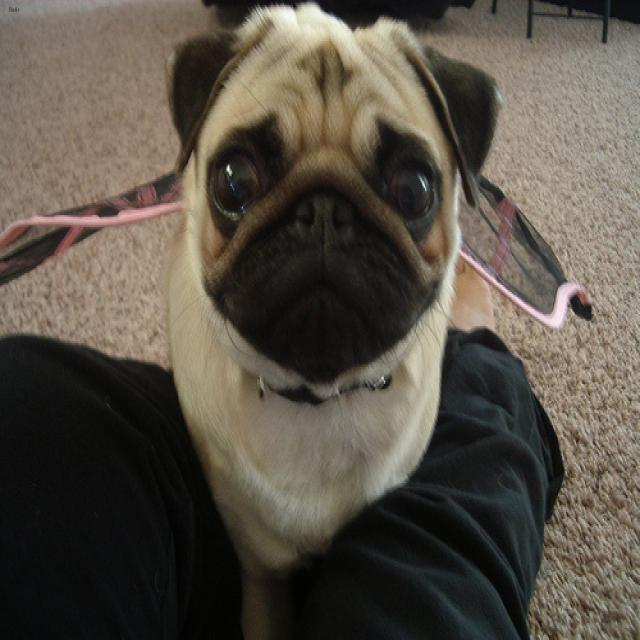dog-pug: (154, 2, 509, 637)
